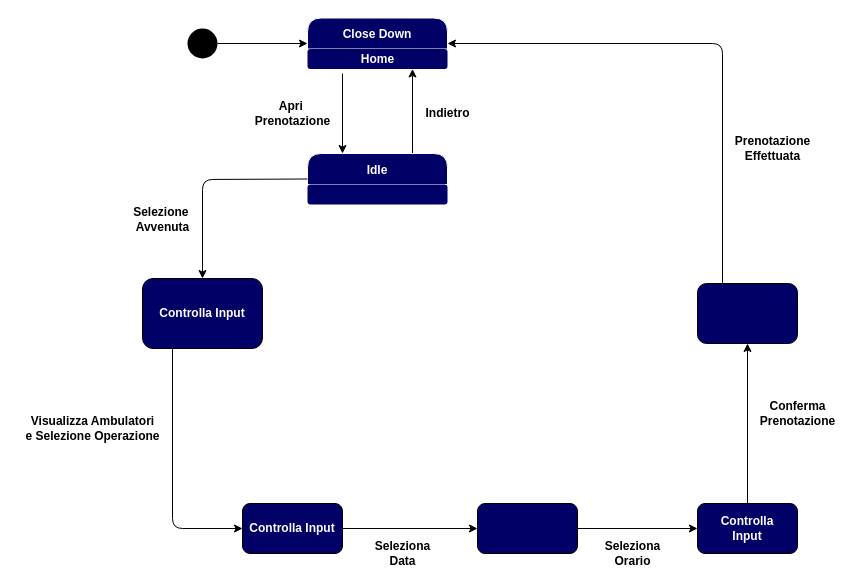
This 859x585 diagram has some shape labels left out. Each missing label, with the centre of its shape:
"Controlla Orari disponibili" goes at [527,528].
"Selezione Struttura" goes at [377,194].
"Termina Operazione" goes at [747,313].
